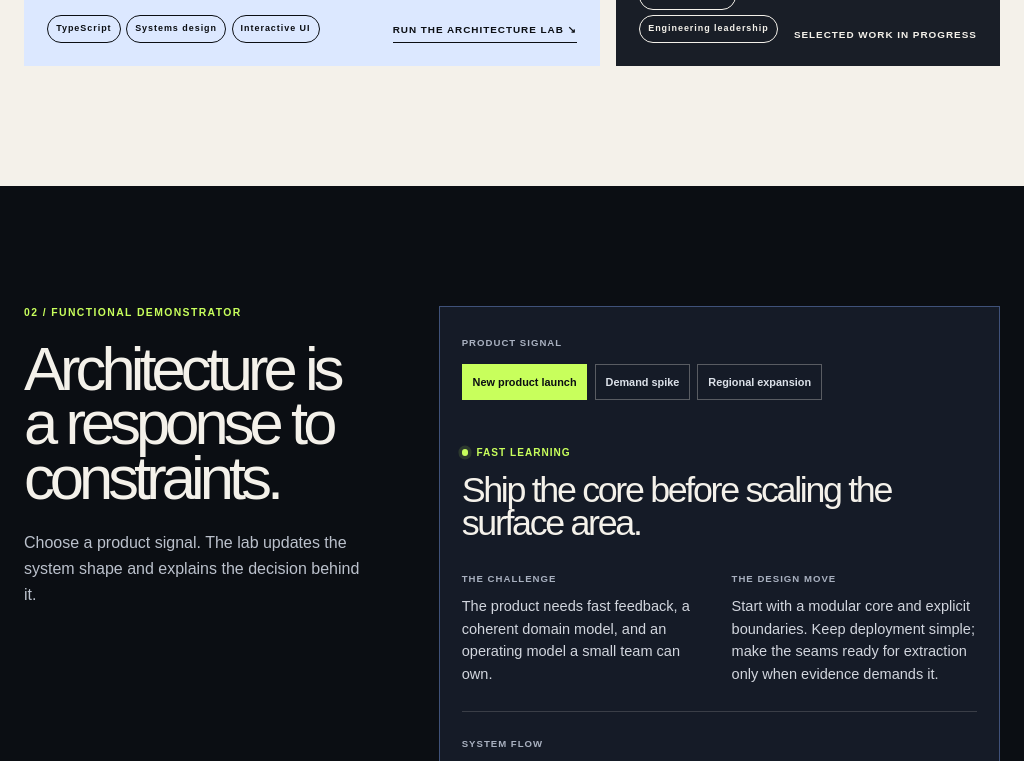
English home page › lets visitors inspect a different architecture scenario
This screenshot has width=1024, height=761.
(page scrolled)
Click the button "Demand spike" at [642, 382], box [595,364,690,400]
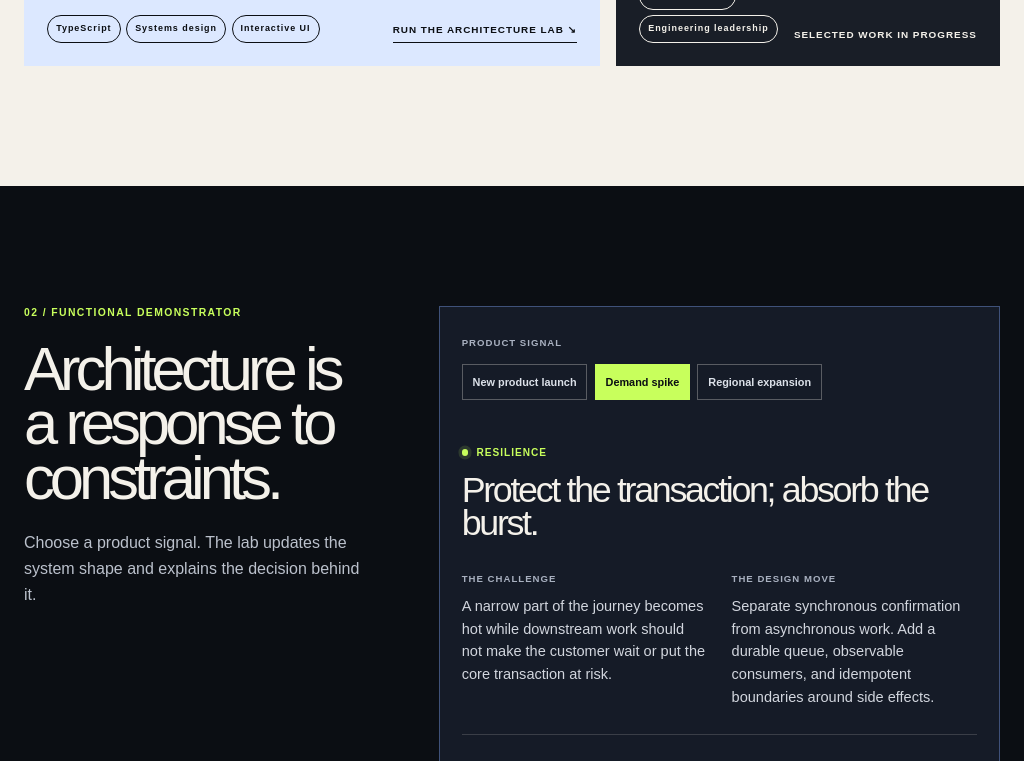
Expected: the heading "Protect the transaction; absorb the burst." is shown, [462,474,977,540]
